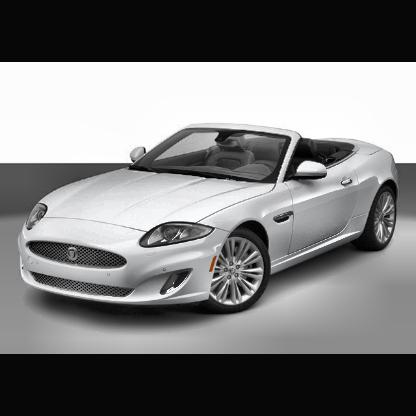Jaguar XK XKR 2012: (19, 123, 399, 314)
